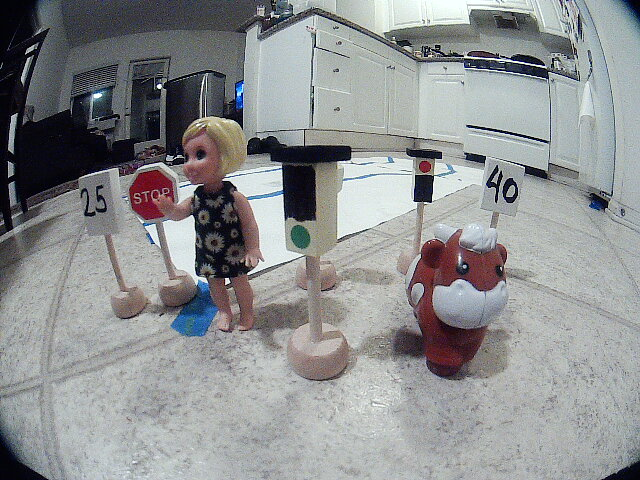Cow: (397, 236, 549, 386)
Green Traffic Light: (264, 144, 365, 266)
Person: (166, 116, 270, 341)
Red Traffic Light: (395, 139, 448, 215)
Speed Limit 25: (68, 172, 132, 242)
Speed Limit 40: (477, 149, 537, 222)
Stop Sign: (122, 166, 184, 225)
